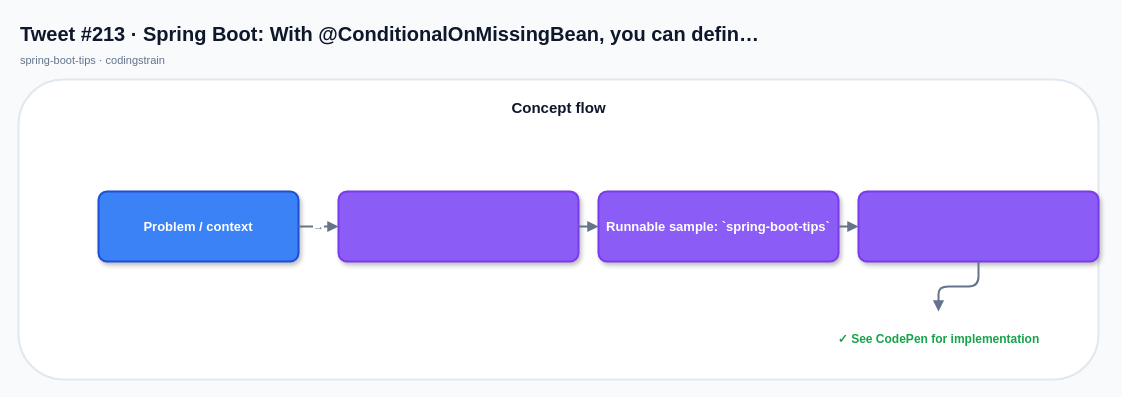
This 1122x397 diagram has some shape labels left out. The shapes that lost their labels are listed below. From the top down, each one's centre as x and y in pixels, then its label:
At [459,227]: "#SpringBoot #SoftwareDevelopment".
At [979,227]: "Architecture diagram + Carbon CodePen below".
